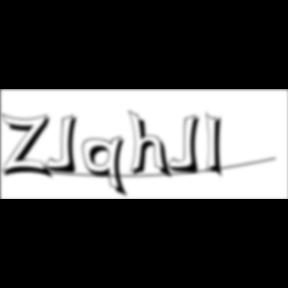I: (206, 110, 230, 182)
J: (44, 114, 83, 176), (168, 114, 207, 176)
Z: (2, 112, 56, 181)
h: (128, 108, 176, 182)
q: (83, 135, 132, 200)
